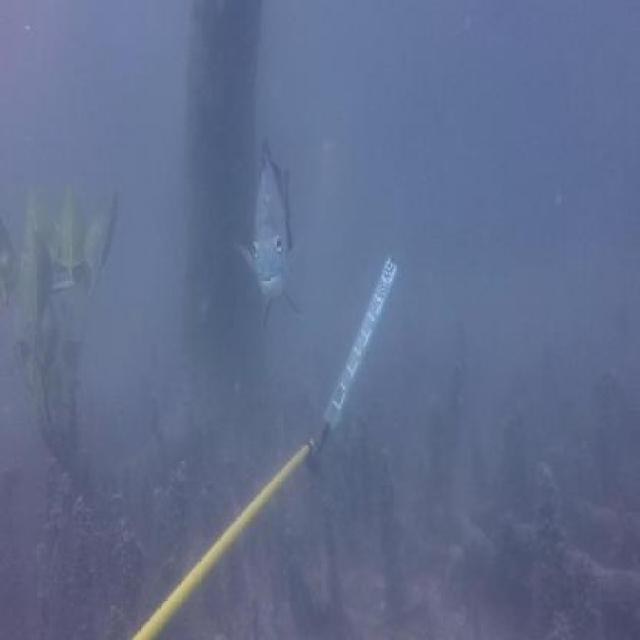acanthopagrus_palmaris: (241, 130, 310, 324)
